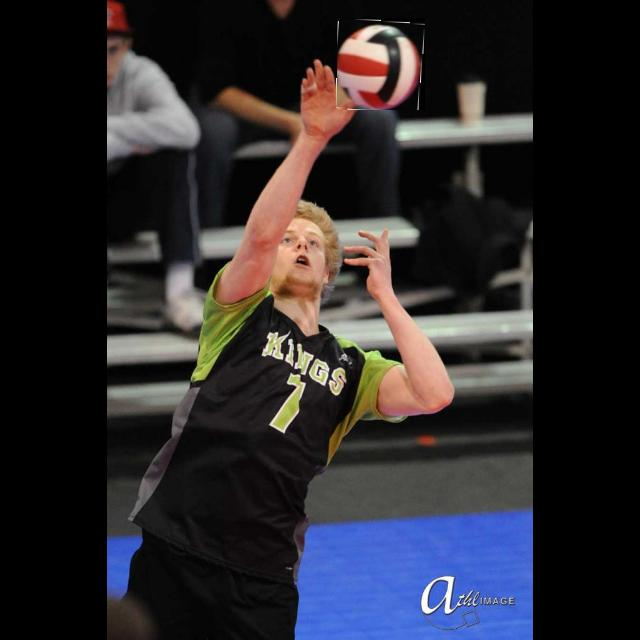Football: (337, 18, 425, 110)
